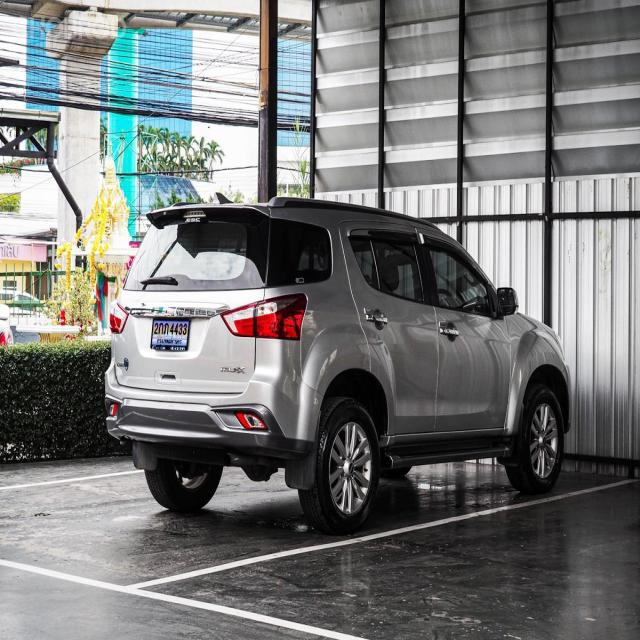license_plate: (147, 310, 191, 356)
